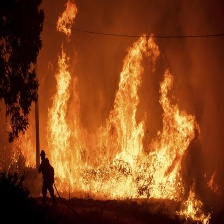fire: (16, 37, 214, 223), (53, 1, 77, 34)
